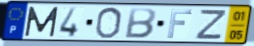4: (57, 6, 82, 39)
B: (123, 7, 158, 40)
F: (166, 8, 194, 39)
M: (23, 5, 61, 38)
O: (93, 6, 124, 40)
Z: (193, 9, 229, 41)
